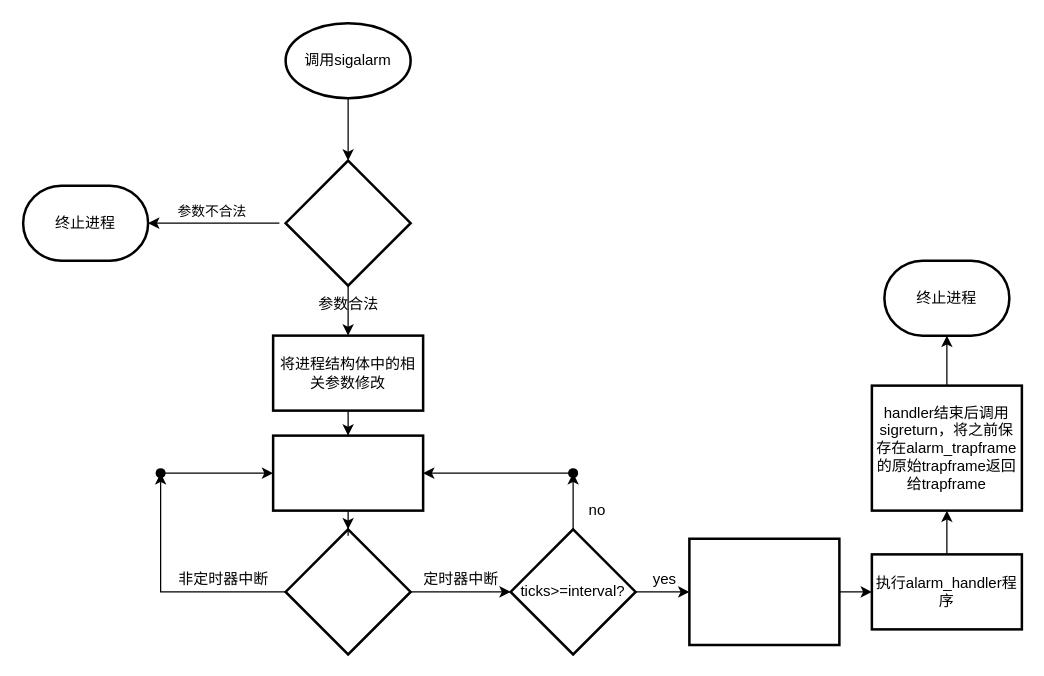
This 1044x676 diagram has some shape labels left out. The box of each missing label's shape, as (x1, y1, x2, y2) in pixels:
参数合法性判断: (284, 159, 411, 286)
将进程的trapframe保存到alarm_trapframe中，并将epc寄存器设为alarm_handler的地址: (688, 537, 840, 646)
程序正常运行: (271, 434, 424, 511)
系统中断: (284, 528, 411, 655)
